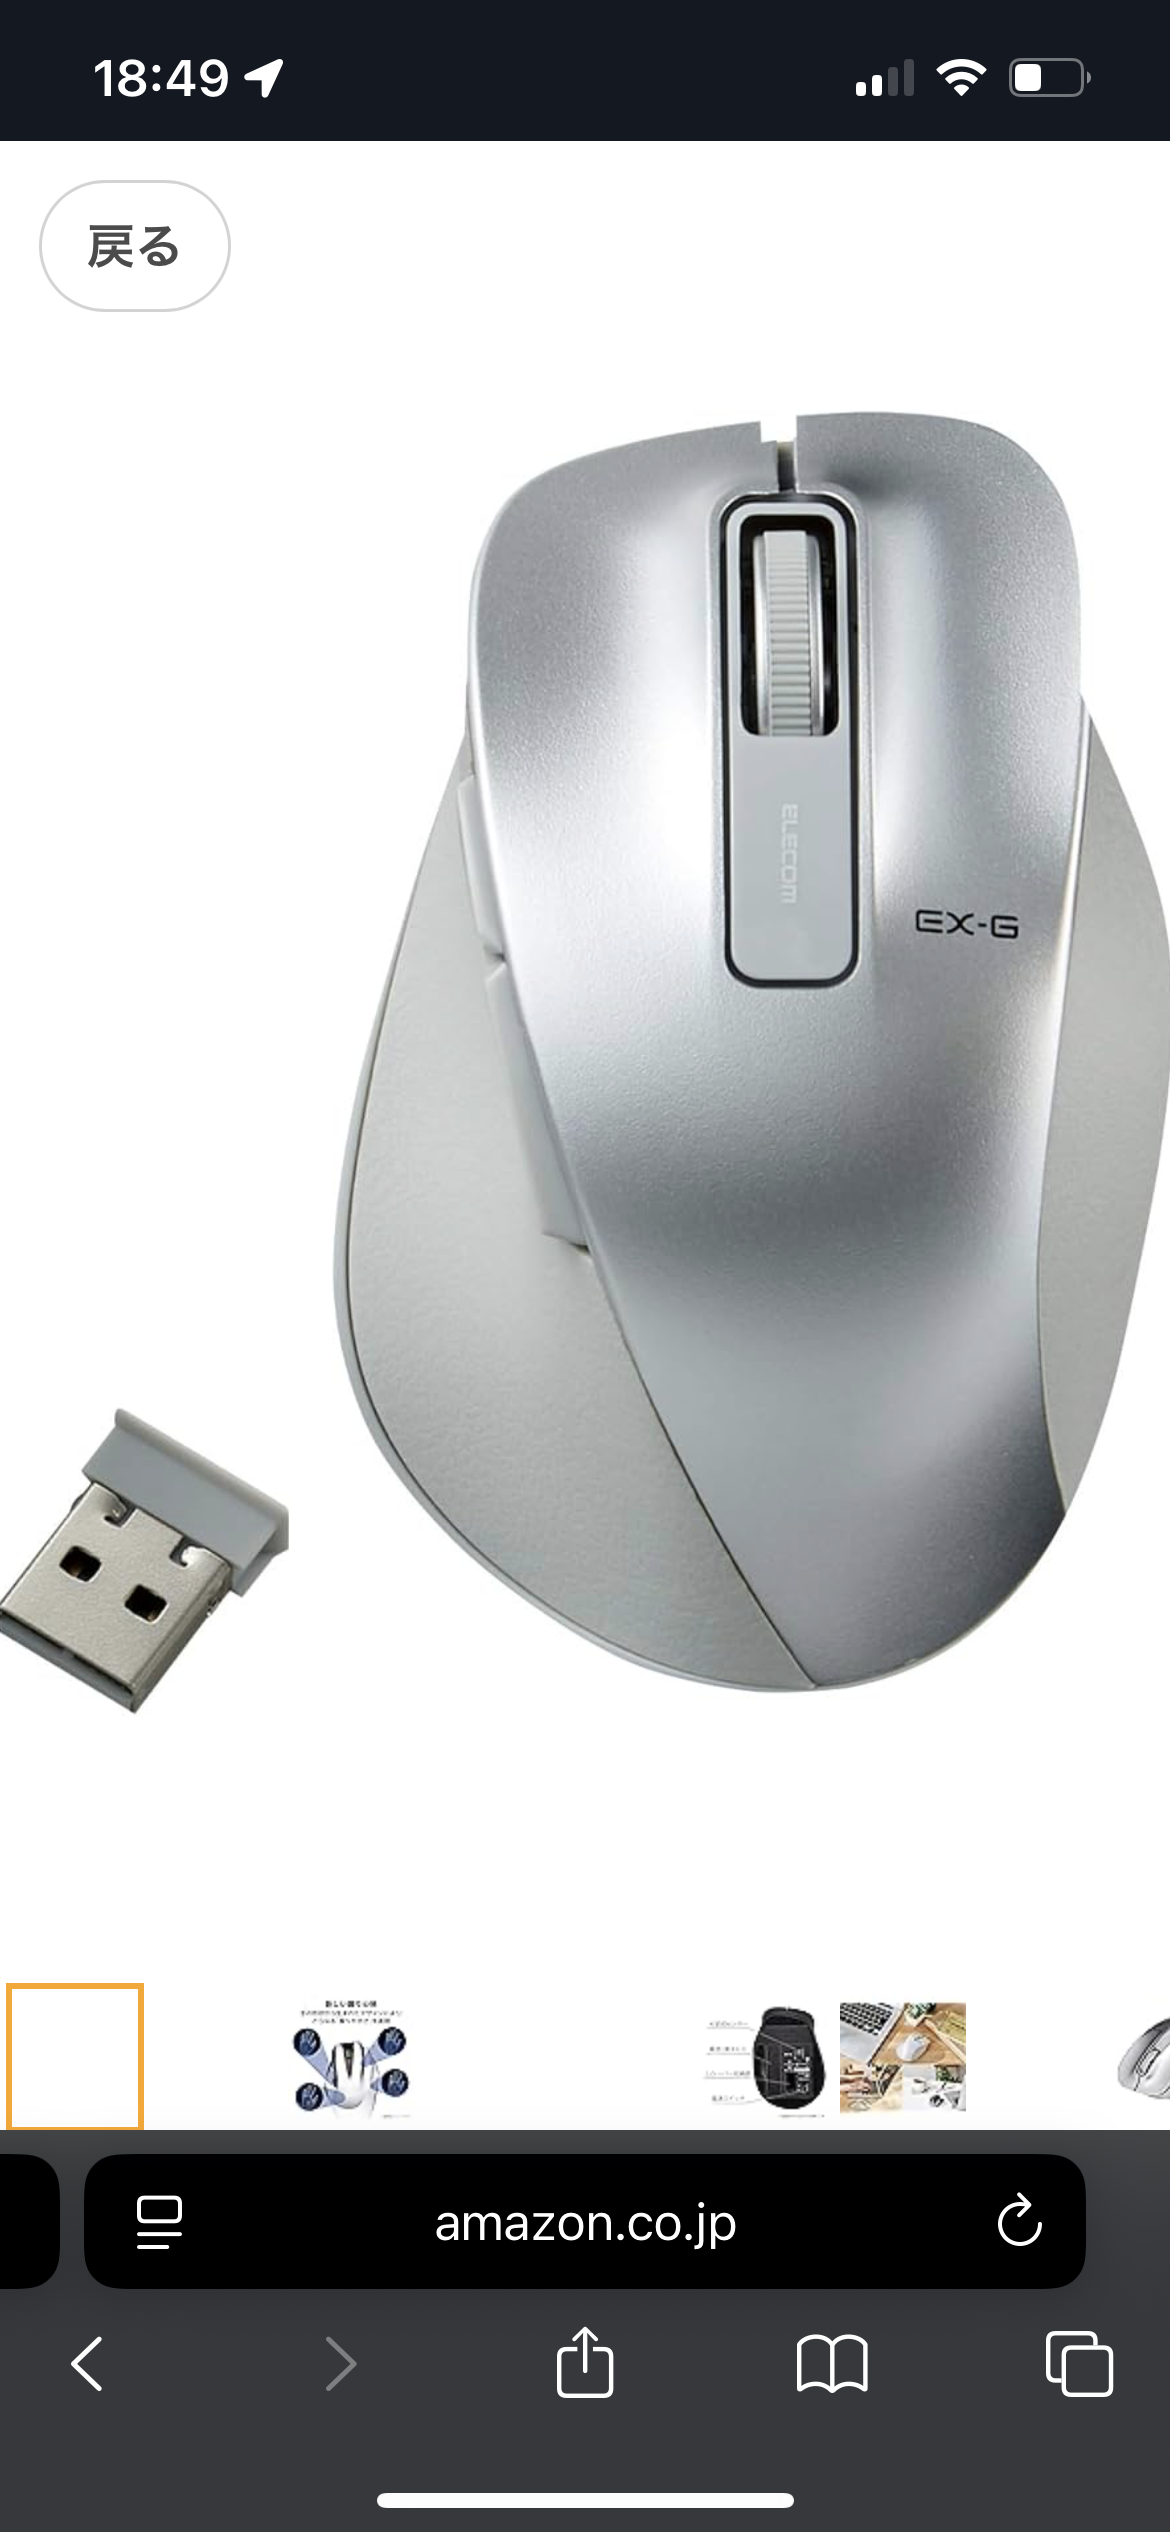mouse: (552, 397, 678, 1705)
